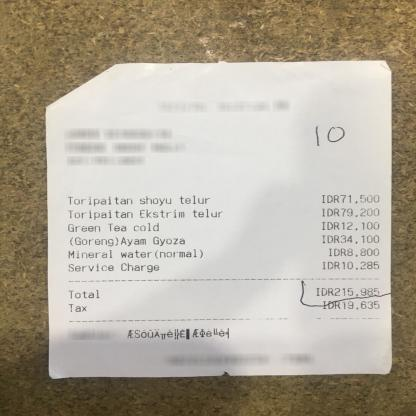receipts: (57, 65, 388, 369)
